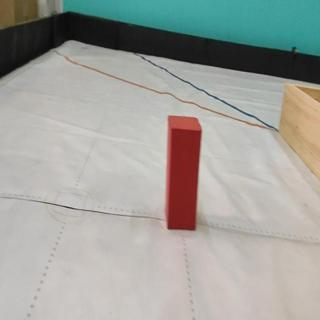redbox: (165, 113, 202, 230)
